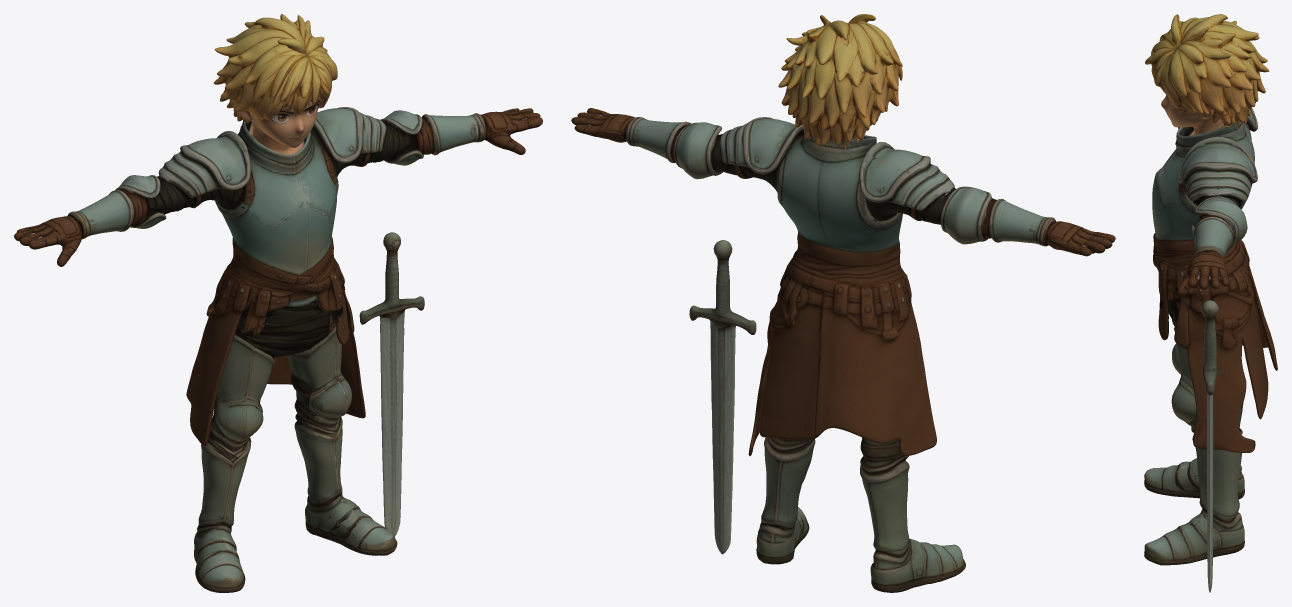
The model's file is knight.glb.
3 renders of one model, left to right at view 1: azimuth 30°, elevation 25°; view 2: azimuth 150°, elevation 25°; view 3: azimuth 270°, elevation 25°, orthographic. The views are drawn at different scales.
Parts seen in each view (by area): view 1: tripo_node_ba2c6e8f-8699-433a-a16c-2dc30bb41545; view 2: tripo_node_ba2c6e8f-8699-433a-a16c-2dc30bb41545; view 3: tripo_node_ba2c6e8f-8699-433a-a16c-2dc30bb41545.
Boxes of the visible parts, x1,y1,x2,y2 form: tripo_node_ba2c6e8f-8699-433a-a16c-2dc30bb41545: [14, 14, 542, 592]; tripo_node_ba2c6e8f-8699-433a-a16c-2dc30bb41545: [571, 14, 1115, 592]; tripo_node_ba2c6e8f-8699-433a-a16c-2dc30bb41545: [1144, 14, 1277, 592].
Bounding box in the file's own units: 0.989 × 0.9955 × 0.2312.
1 material, 1 textured.
